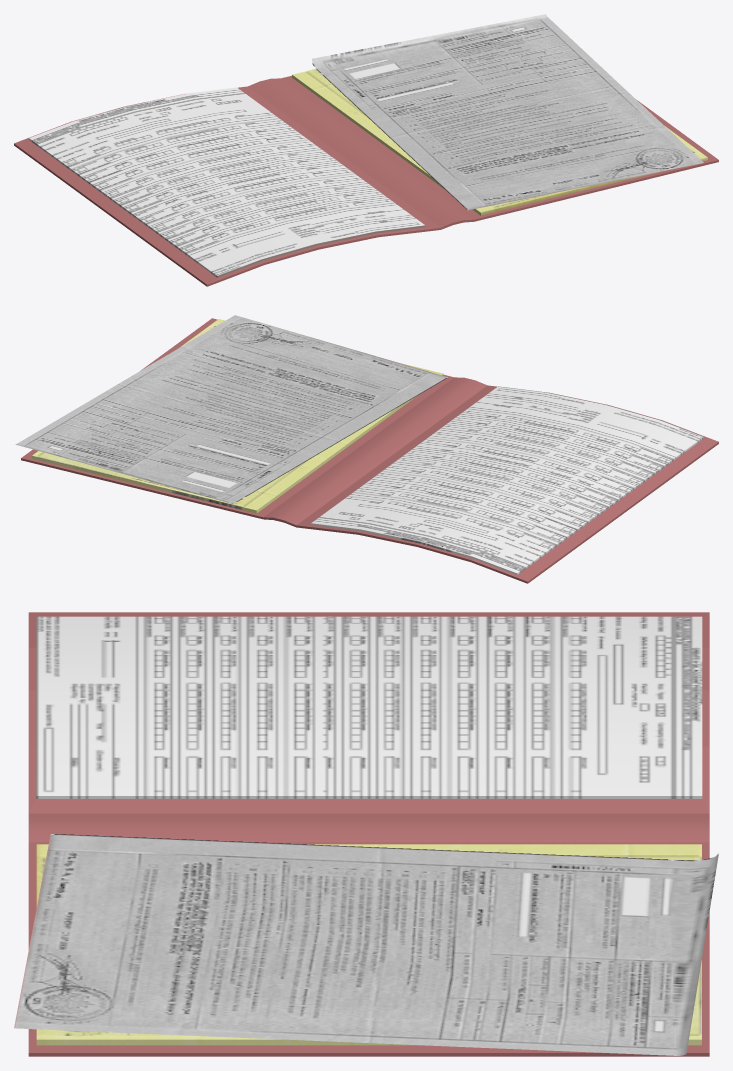
Rendered from DeskLitter_Document_A.fbx.
The picture shows the model from 3 angles, top to bottom: view 1: azimuth 30°, elevation 25°; view 2: azimuth 150°, elevation 25°; view 3: azimuth 270°, elevation 25°; orthographic projection. The views are drawn at different scales.
Visible parts, largest first — view 1: DeskLitter_Document_A; view 2: DeskLitter_Document_A; view 3: DeskLitter_Document_A.
Part boxes in pixels (x1,y1,x2,y2): DeskLitter_Document_A: (14,14,718,286); DeskLitter_Document_A: (15,315,718,583); DeskLitter_Document_A: (14,612,718,1056).
Size of the model in its own units: 33.5 by 0.8516 by 22.08.
